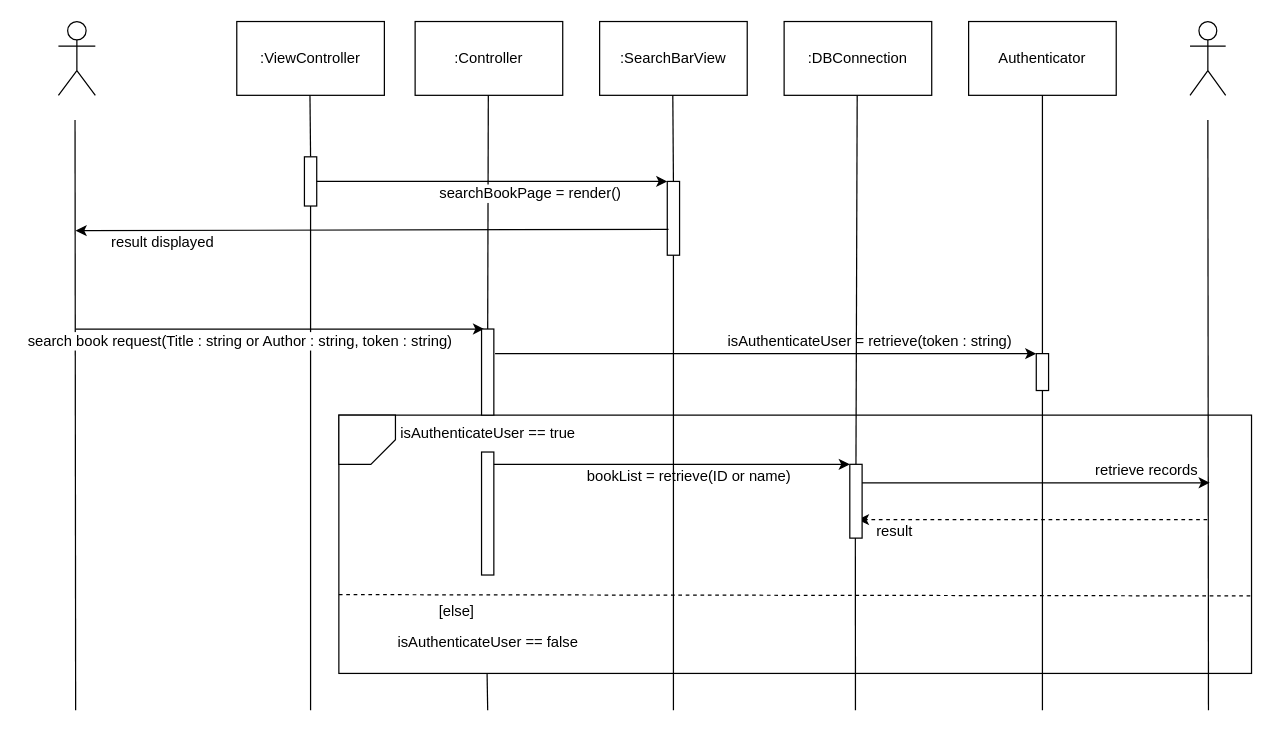
Some shapes in this 1276 by 733 pixel diagram are drawn without their labels. The centre of each missing label's shape, as x and y in pixels:
"alt" goes at [366,439].
"Database" goes at [1207,57].
"Manager" goes at [76,57].
